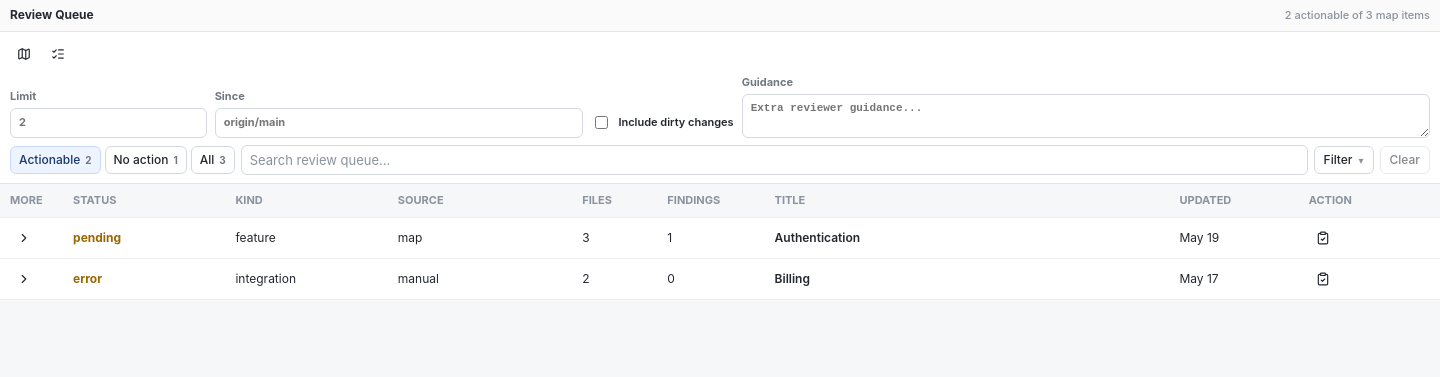
ReviewMapPanel › keeps reviewed zero-finding map items out of the default queue but visible
Expected: the text "Authentication" is shown, [775,230,860,246]
Expected: the text "Billing" is shown, [775,271,810,288]
Step 1. Click the button "No action 1" → (146, 160), box [104,146,187,174]
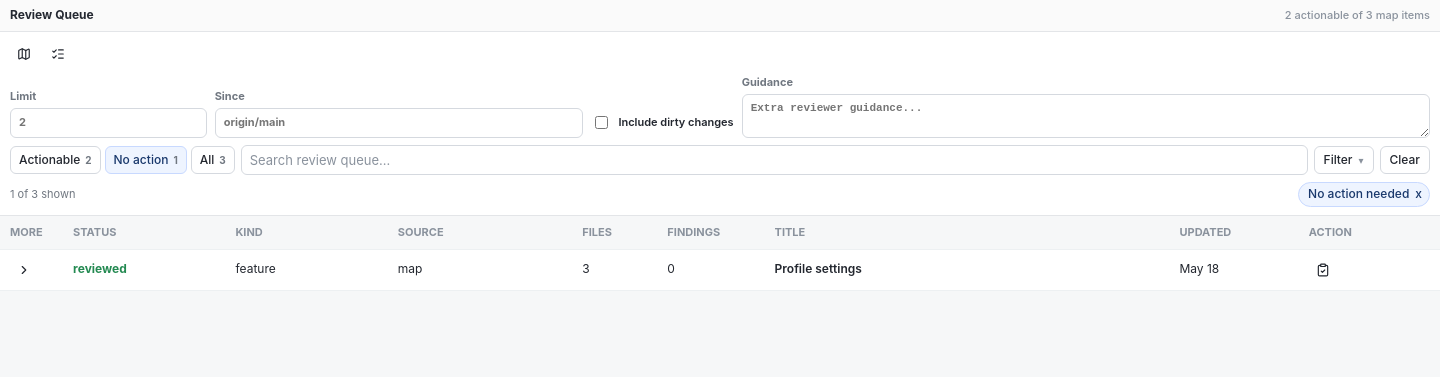
Result: the text "1 of 3 shown" is shown at [10,187,75,202]
Result: the text "Authentication" is gone
Result: the text "Billing" is gone
Step 2. Click the button "All 3" → (213, 160), box [191,146,235,174]
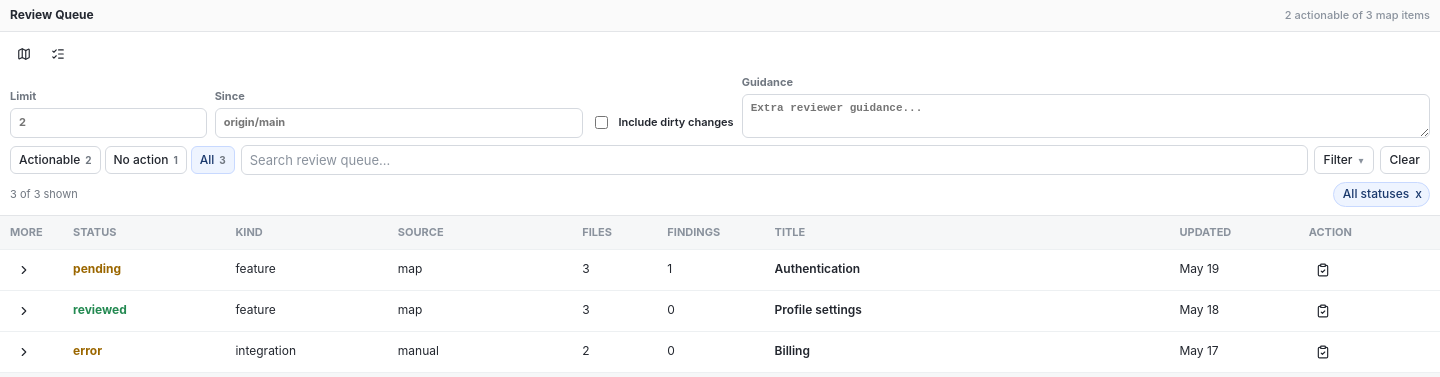
Result: the text "3 of 3 shown" is shown at [10,187,78,202]
Result: the text "Authentication" is shown at [775,262,860,278]
Result: the text "Billing" is shown at [775,344,810,360]
